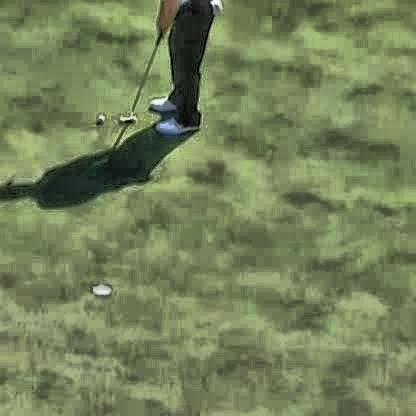golfball: (95, 113, 102, 120)
